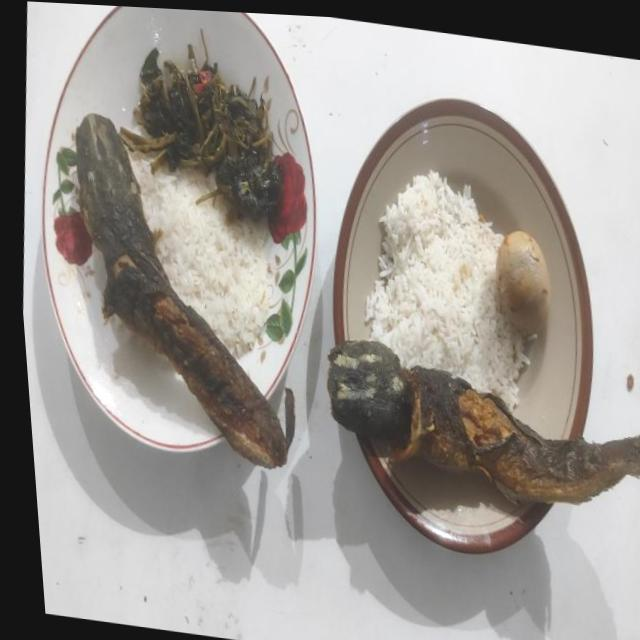nasi_putih: (364, 170, 528, 409), (130, 152, 272, 358)
tumis_kangkung: (119, 44, 283, 221)
